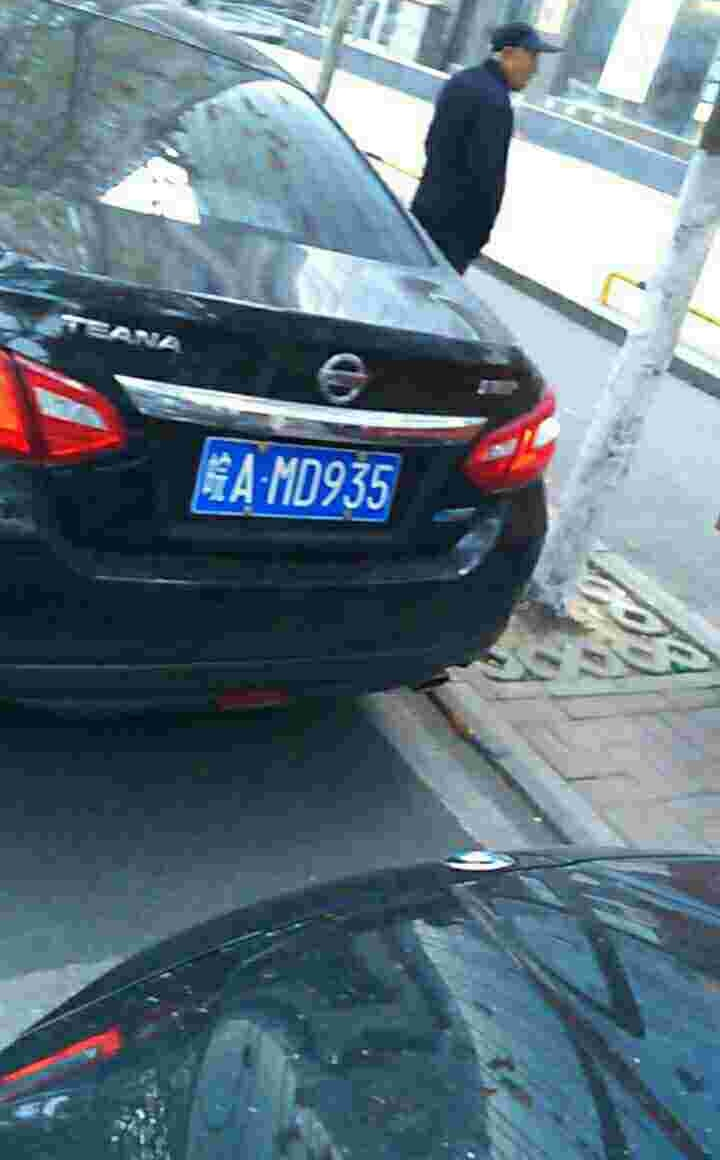license_plate: (198, 446, 398, 528)
